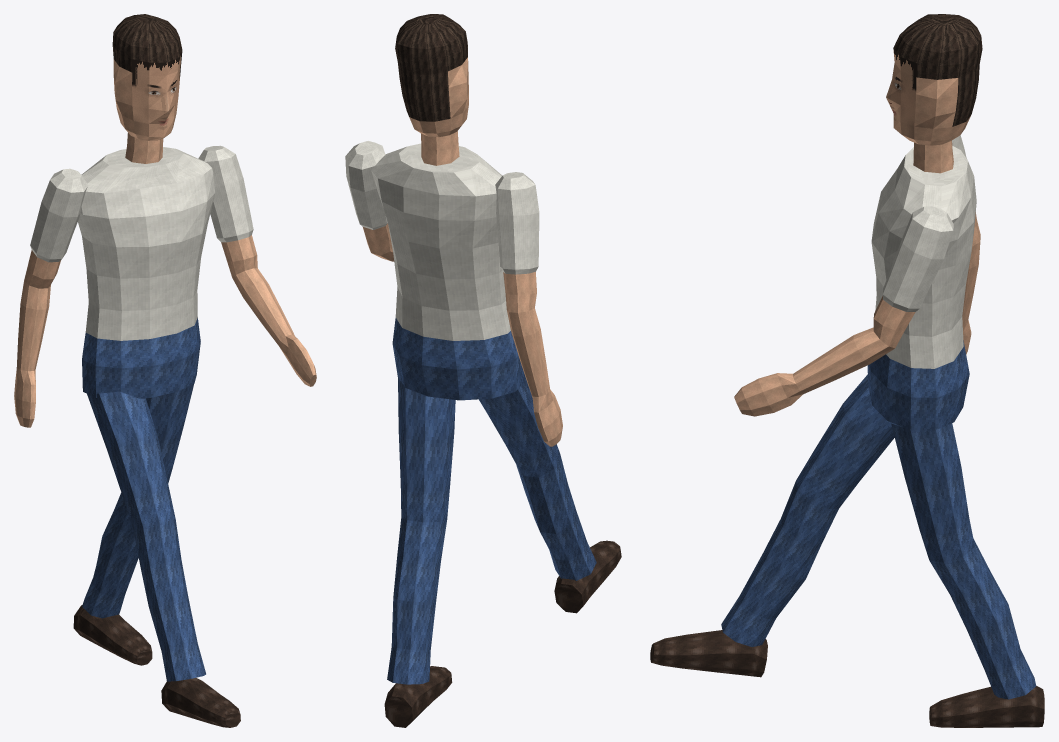
File: walk_14.obj
The picture shows the model from 3 angles, left to right: view 1: azimuth 30°, elevation 25°; view 2: azimuth 150°, elevation 25°; view 3: azimuth 270°, elevation 25°; orthographic projection. The views are drawn at different scales.
Size of the model in its own units: 0.6243 by 1.82 by 0.9115.
Materials: 25 (25 with a texture image).
